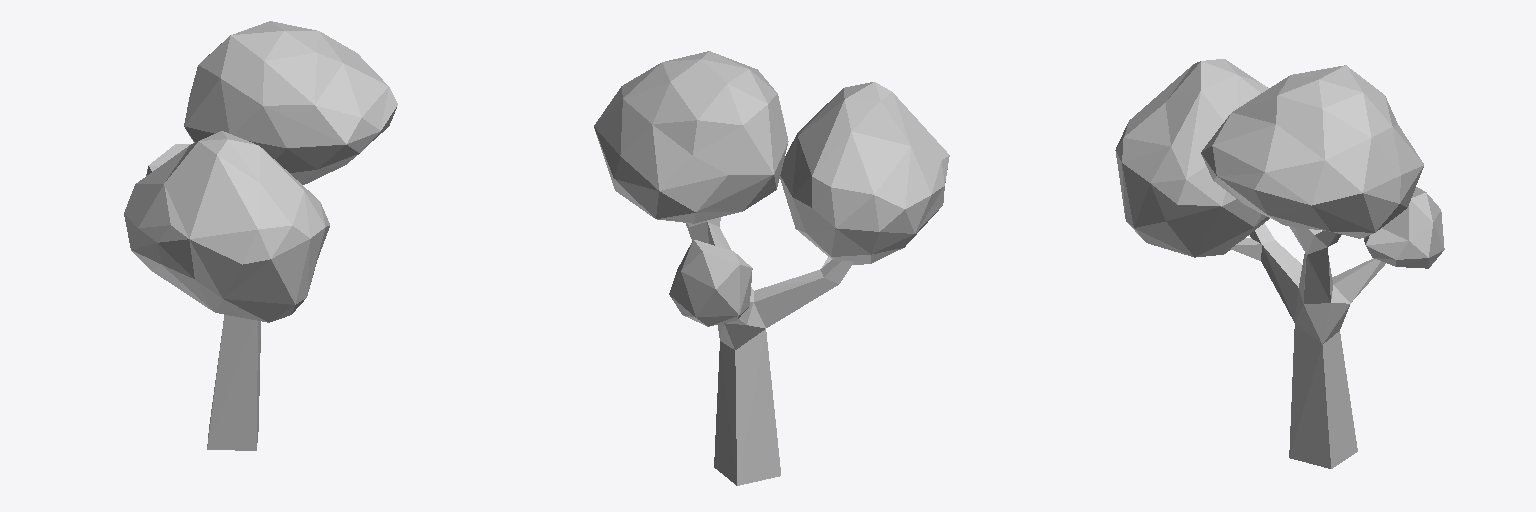
File: tree_lvl_14.obj
3 views of the same model, side by side, from view 1: azimuth 30°, elevation 25°; view 2: azimuth 150°, elevation 25°; view 3: azimuth 270°, elevation 25° (orthographic).
Bounding box in the file's own units: 5.58 × 7.55 × 5.65.